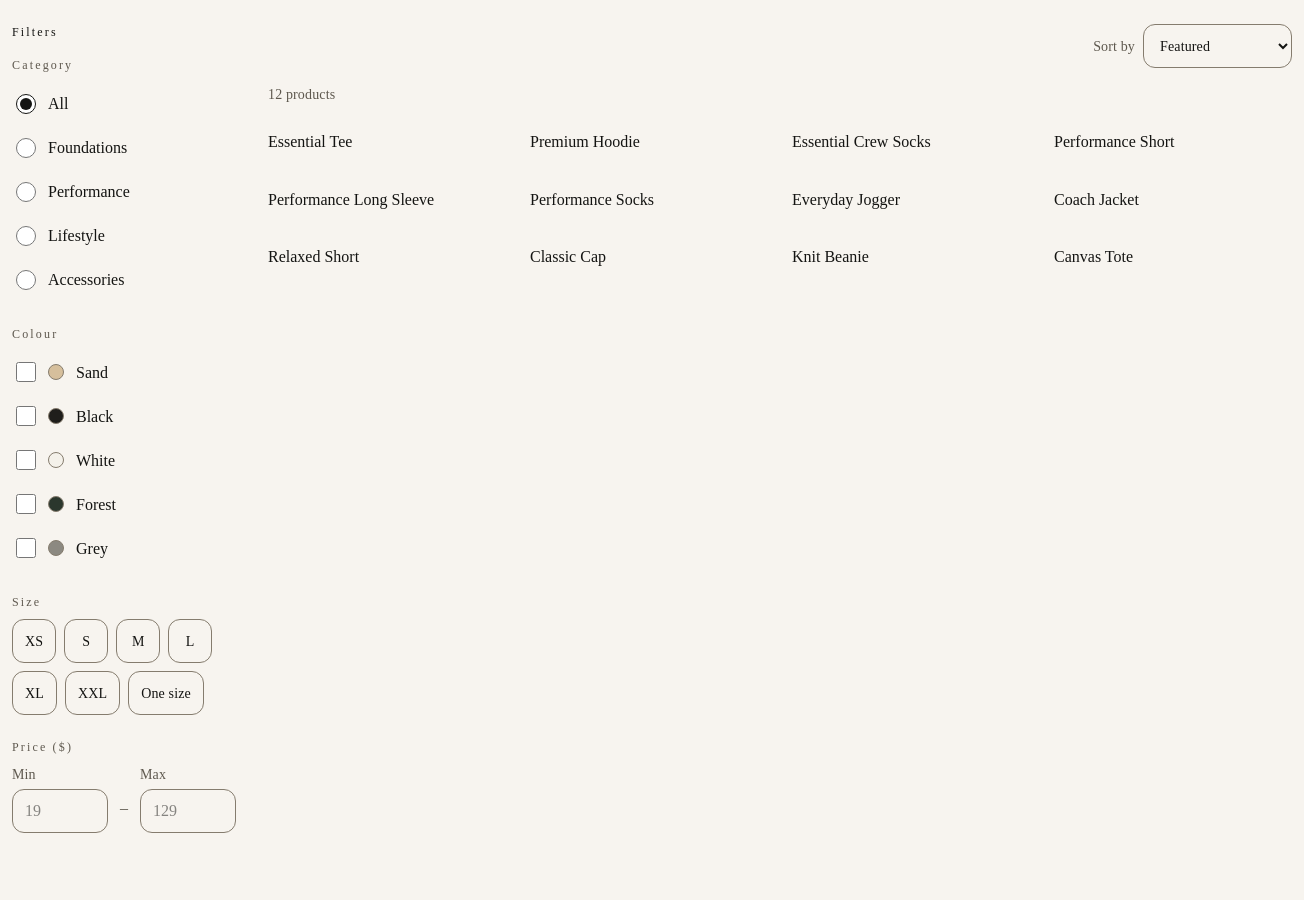
live region (WCAG 4.1.3) › is a polite status that always holds the current count
What coordinates should you click on to do the following:
click the checkbox labelled "Grey"
I would click on:
 (26, 548)
Its box is 16,538 -> 36,558.
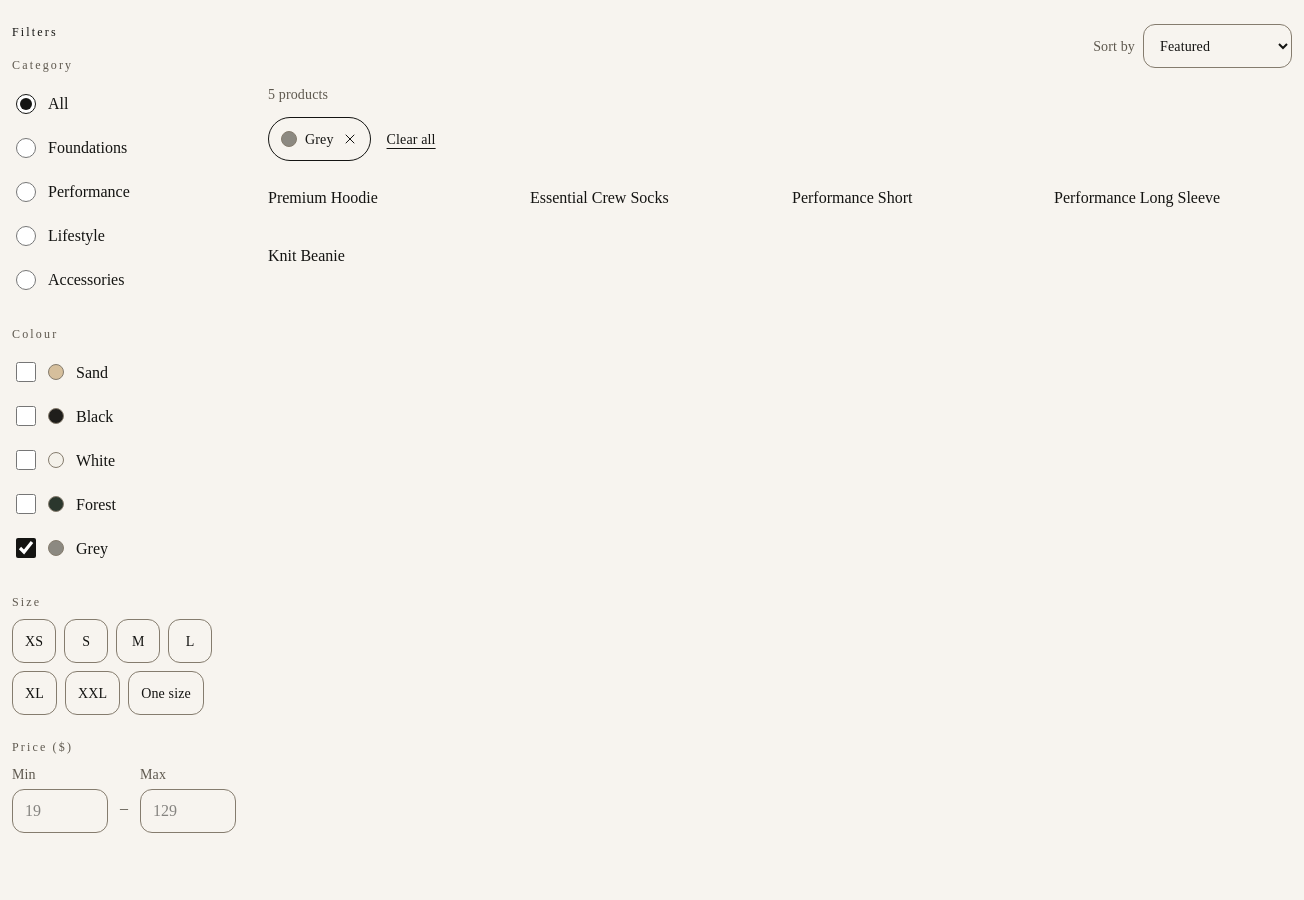
Expected: the text "12 products" is gone
